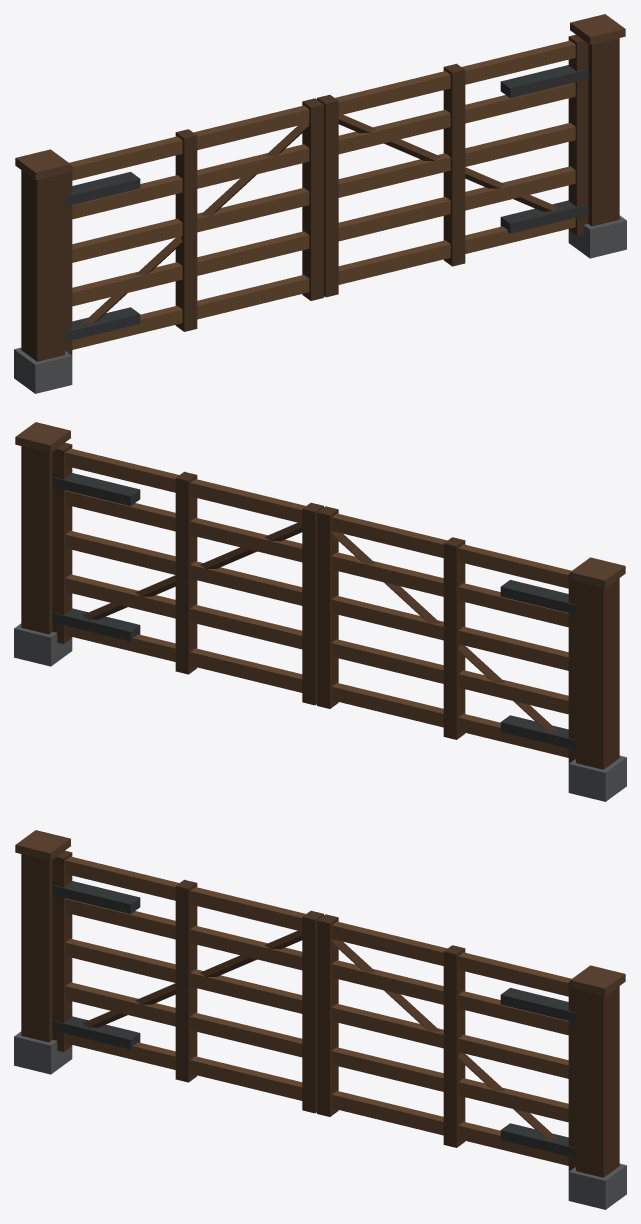
File: prop_farm_gate.glb
3 renders of one model, top to bottom at view 1: azimuth 30°, elevation 25°; view 2: azimuth 150°, elevation 25°; view 3: azimuth 330°, elevation 25°, orthographic.
Visible parts, largest first — view 1: LeafR, LeafL, Frame; view 2: LeafR, LeafL, Frame; view 3: LeafL, LeafR, Frame.
Boxes of the visible parts, <box> form: LeafR: <box>317,34,588,297</box>; LeafL: <box>65,98,323,355</box>; Frame: <box>14,14,626,393</box>; LeafR: <box>52,442,323,705</box>; LeafL: <box>317,506,575,763</box>; Frame: <box>14,422,626,801</box>; LeafL: <box>52,850,323,1113</box>; LeafR: <box>317,914,575,1171</box>; Frame: <box>14,830,626,1209</box>.
Bounding box in the file's own units: 6.4 × 2.28 × 0.4.
